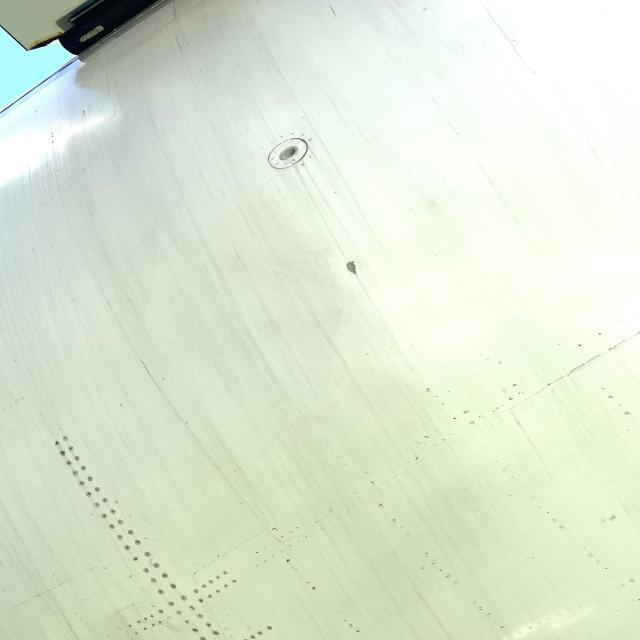crack: (142, 355, 168, 377), (332, 263, 363, 281)
